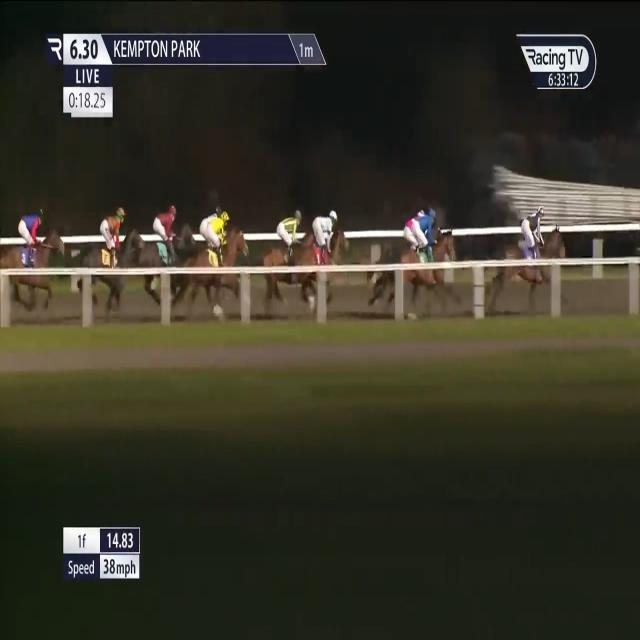horses-racing: (285, 198, 349, 314), (501, 199, 562, 319), (73, 202, 138, 308), (4, 203, 67, 305), (133, 199, 188, 304), (188, 204, 236, 314), (388, 195, 439, 288), (256, 206, 307, 297), (404, 209, 451, 302)
